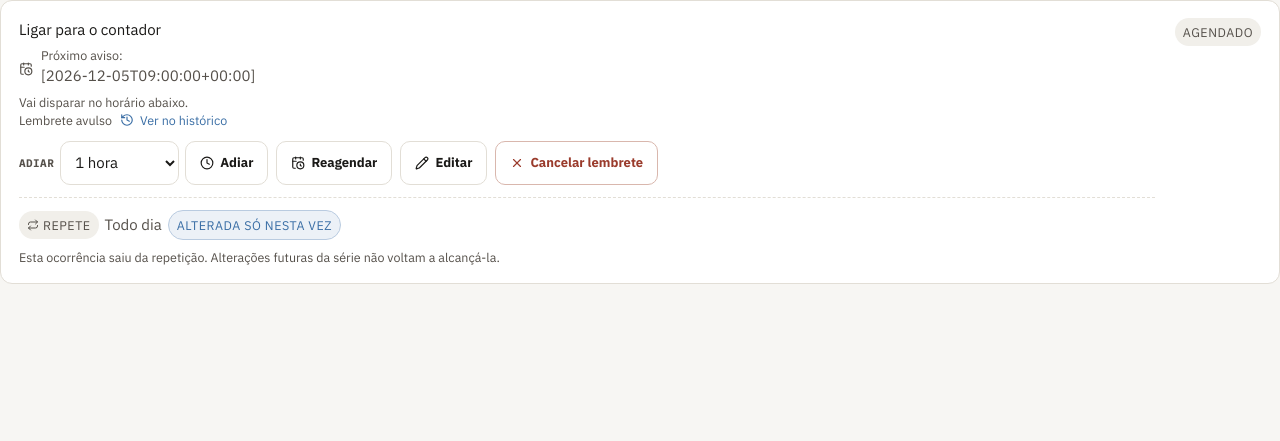
Test: cancelling an occurrence that carries a rule › keeps the ordinary promise for a detached occurrence
Click the button "Cancelar lembrete" at point(577, 163), box [495, 141, 658, 185]
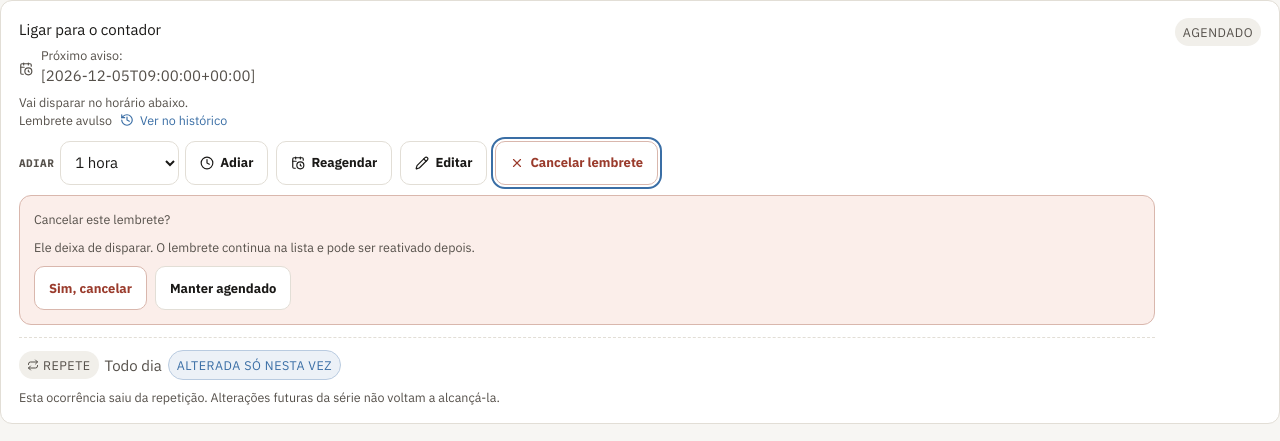
Expected: the text "Ele deixa de disparar. O lembrete continua na lista e pode ser reativado depois." is shown, [34, 239, 475, 255]
